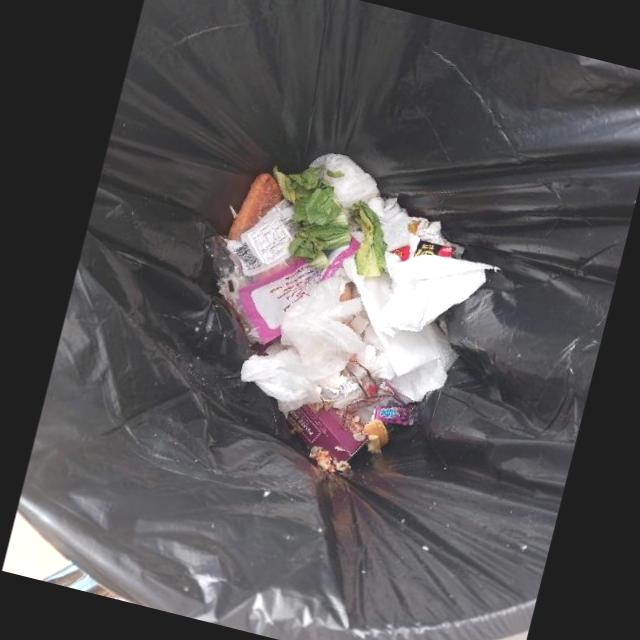bao_bi_thuc_pham: (203, 199, 360, 346), (374, 379, 419, 426)
carton: (286, 405, 367, 462)
giay: (342, 252, 491, 402), (367, 197, 464, 259)
thuc_an_thua: (226, 173, 284, 241)
tui_ni_long: (240, 268, 369, 413), (308, 153, 379, 210)
vo_rau_cu: (272, 165, 351, 269), (348, 200, 388, 279)
